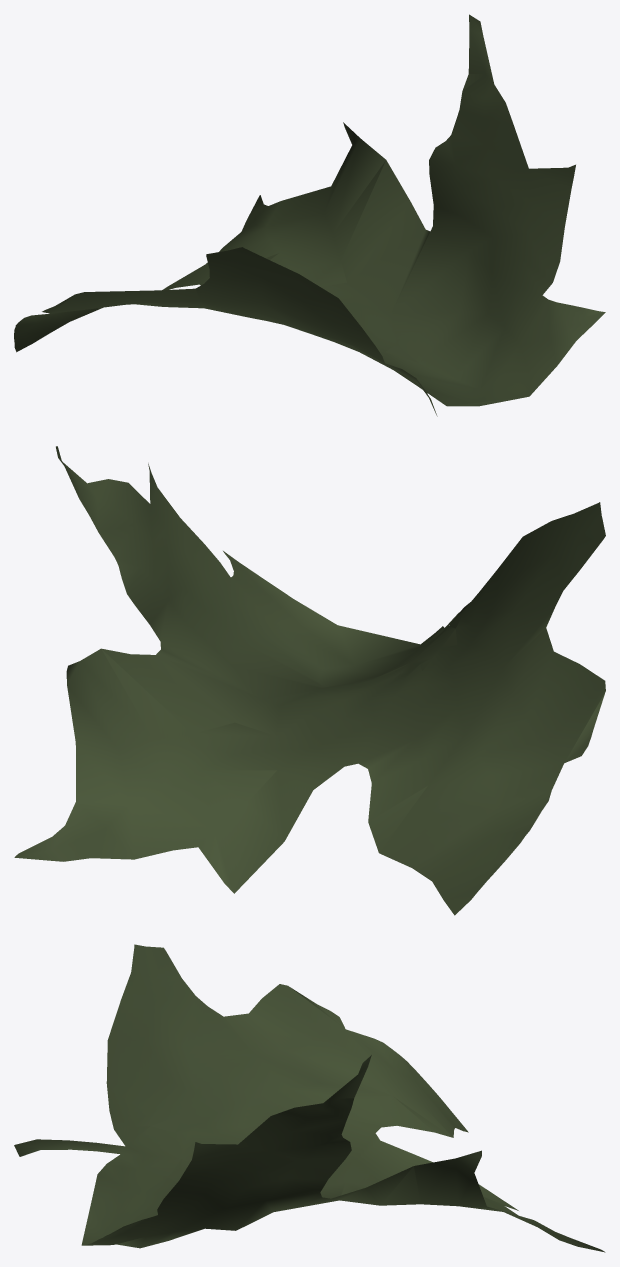
File: trees-leaves-crumpled-leaf_v7.glb
3 renders of one model, top to bottom at view 1: azimuth 30°, elevation 25°; view 2: azimuth 150°, elevation 25°; view 3: azimuth 270°, elevation 25°, orthographic. The views are drawn at different scales.
Visible parts, largest first — view 1: Crumpled Leaf_v7; view 2: Crumpled Leaf_v7; view 3: Crumpled Leaf_v7.
Part boxes in pixels (<box>): Crumpled Leaf_v7: <box>14,14,605,416</box>; Crumpled Leaf_v7: <box>14,446,605,915</box>; Crumpled Leaf_v7: <box>14,944,605,1252</box>.
Bounding box in the file's own units: 0.1016 × 0.0592 × 0.12.
